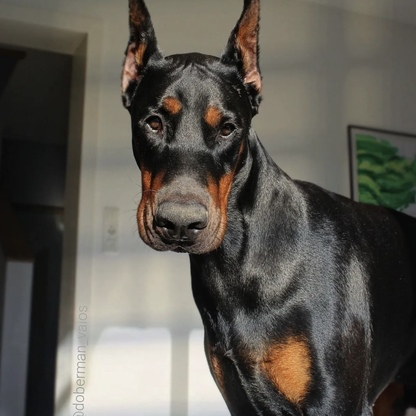doberman: (119, 7, 416, 410)
